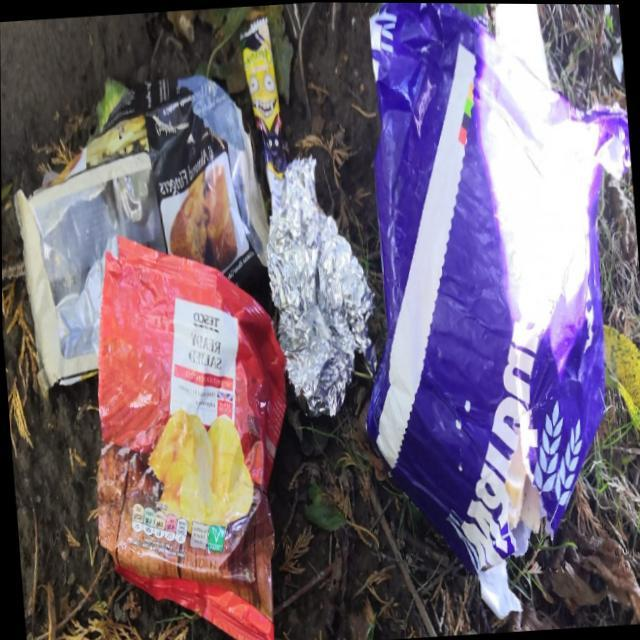clothes: (259, 148, 383, 422), (268, 274, 296, 288)
metal: (335, 2, 640, 611), (80, 235, 294, 640), (9, 107, 170, 409), (156, 54, 254, 270), (245, 15, 290, 164)
